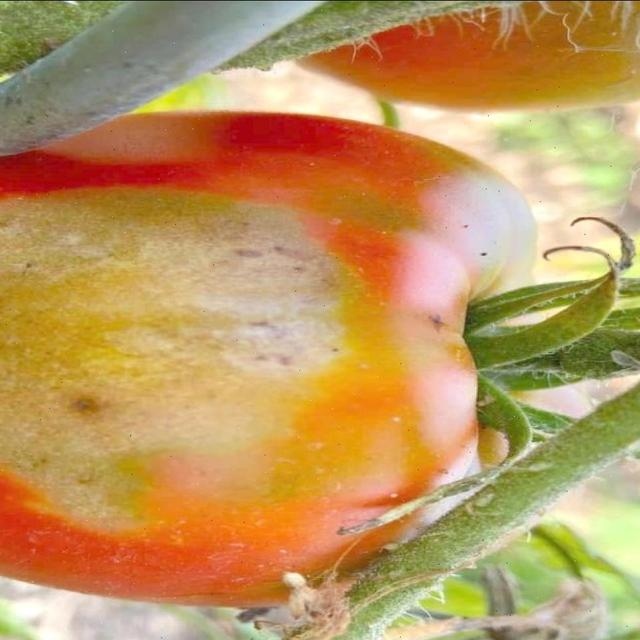Sunscald Fruit: (150, 158, 321, 253)
